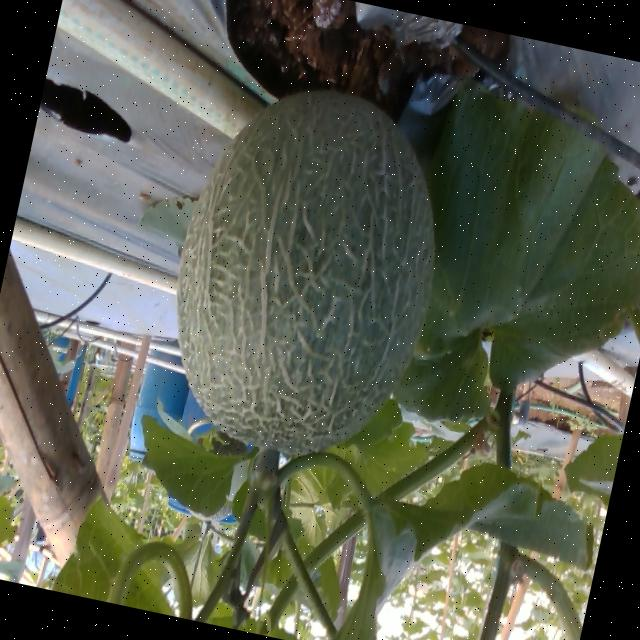melon: (176, 89, 433, 453)
